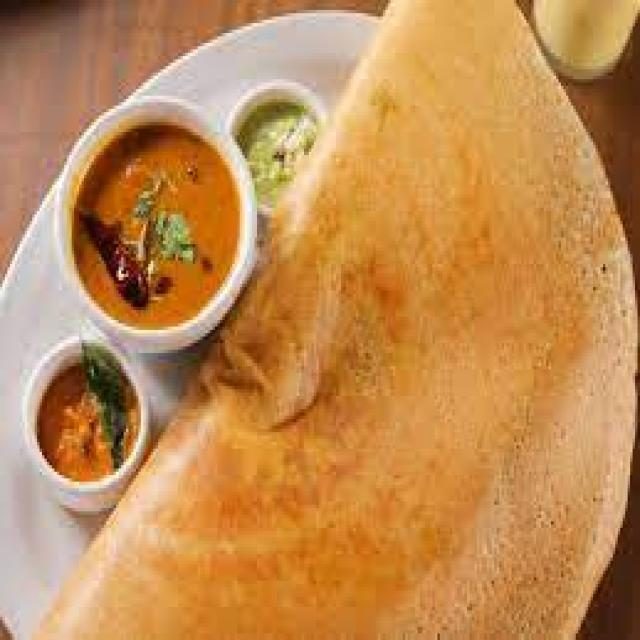chutney: (228, 79, 326, 221)
dosa: (39, 0, 637, 633)
